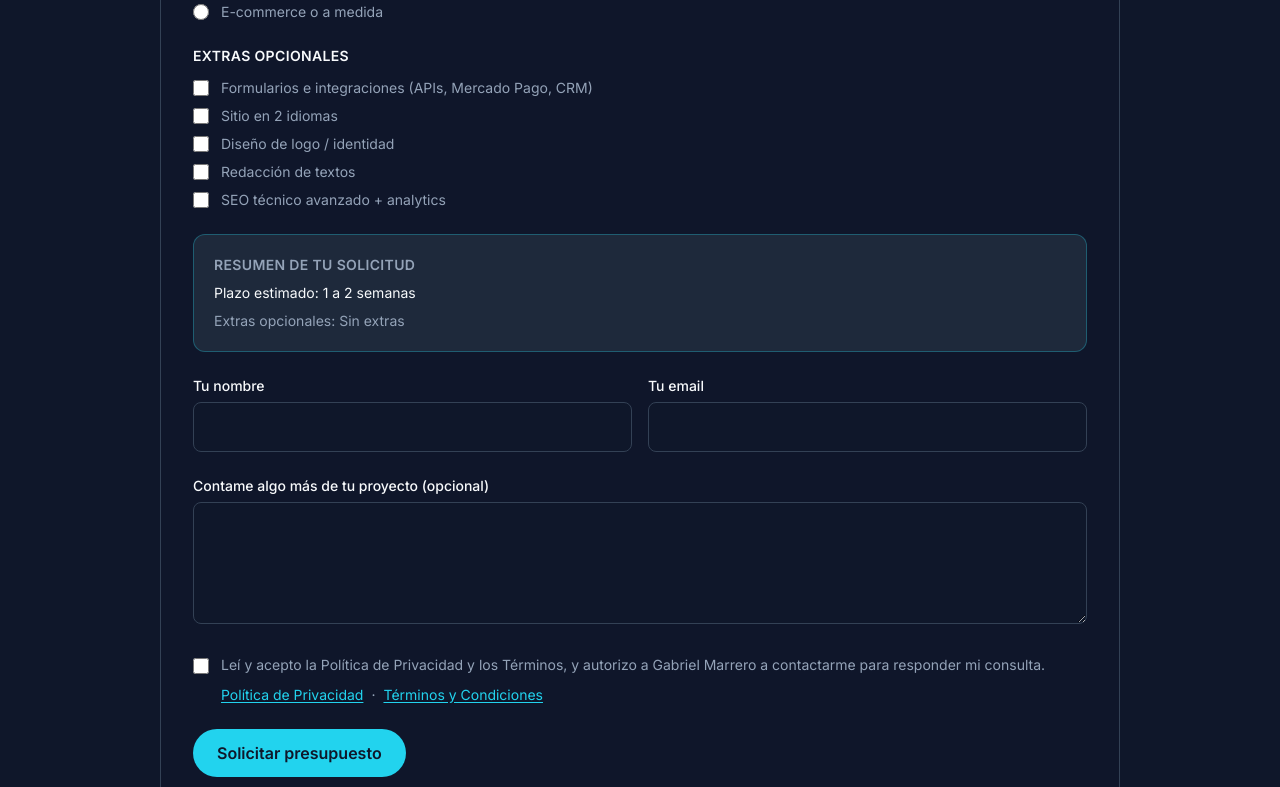
Estimator › rejects a WhatsApp number in the email field
(page scrolled)
In the field labelled "Tu nombre": (412, 427) [193,402,632,452], type "Ana Pérez"
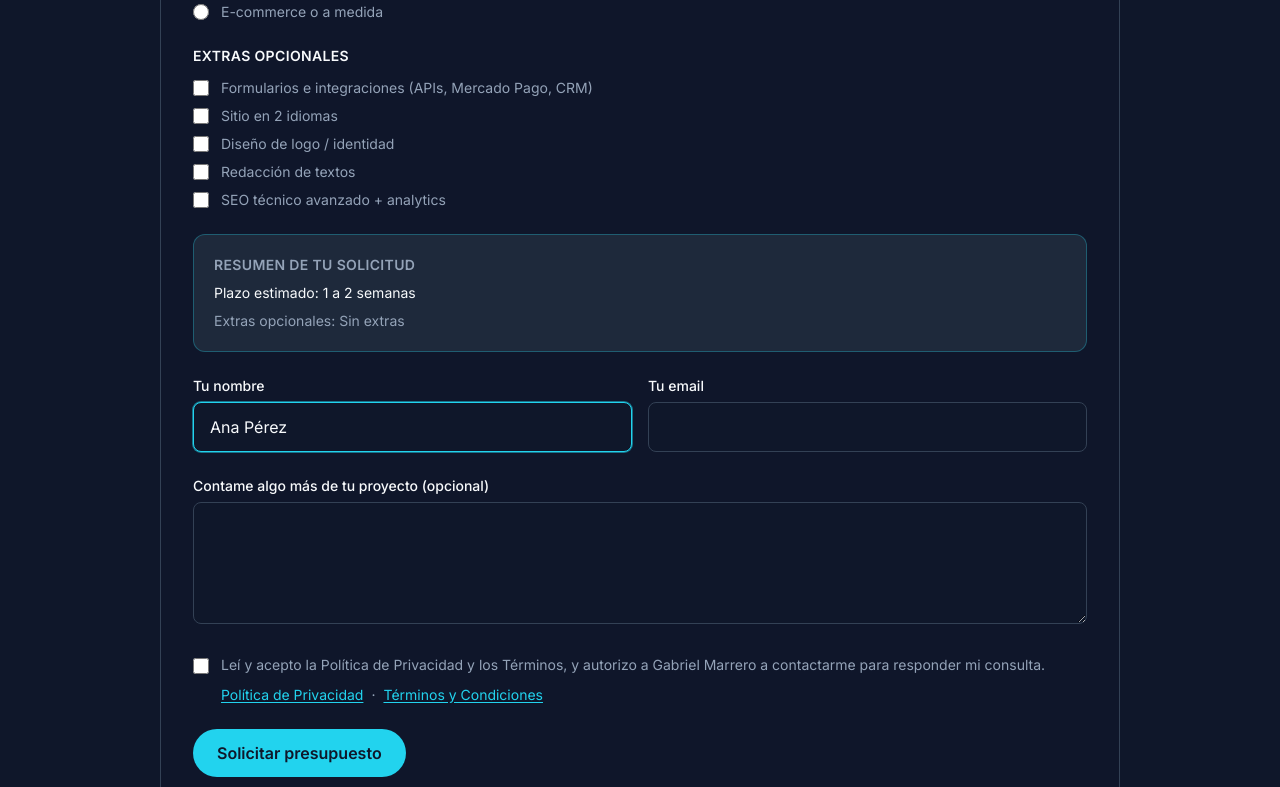
In the field labelled "Tu email": (868, 427) [648,402,1087,452], type "11 2345 6789"
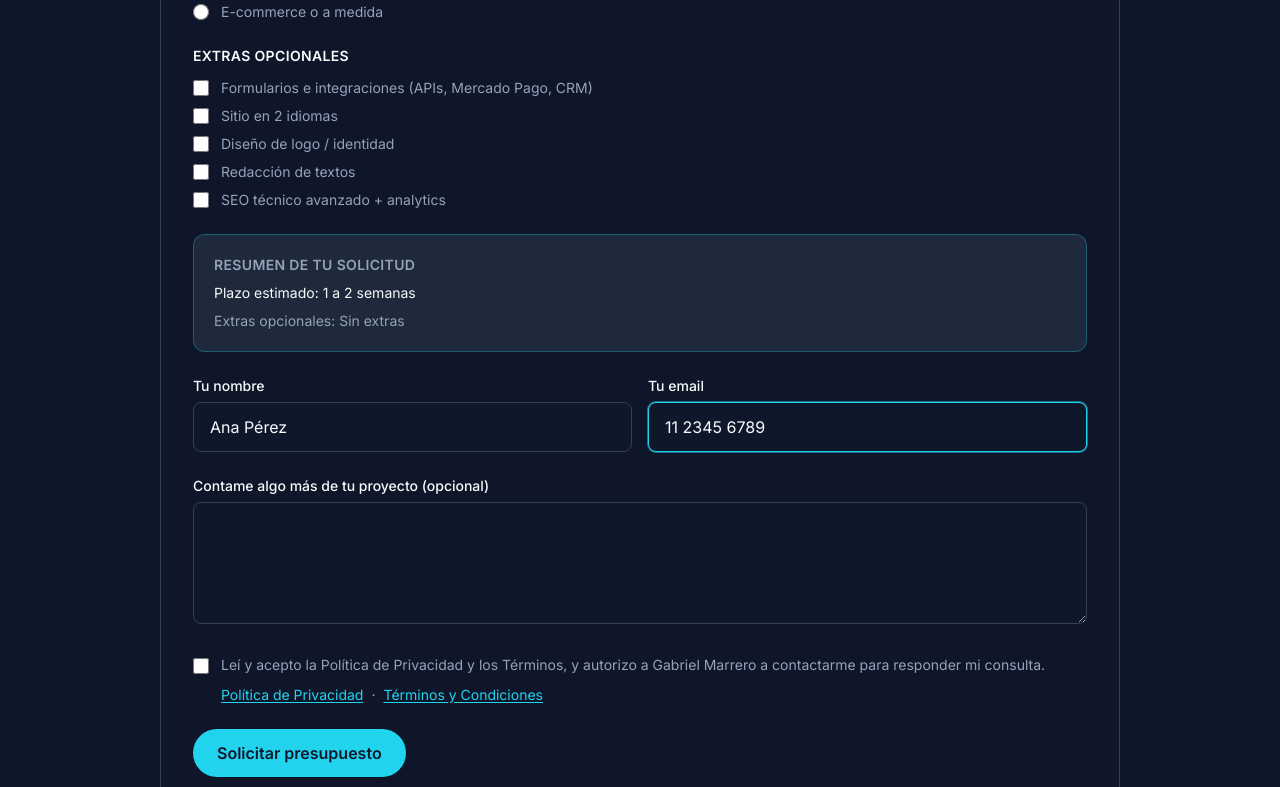
Click the checkbox labelled "Política de Privacidad": (201, 666) [193,658,209,674]
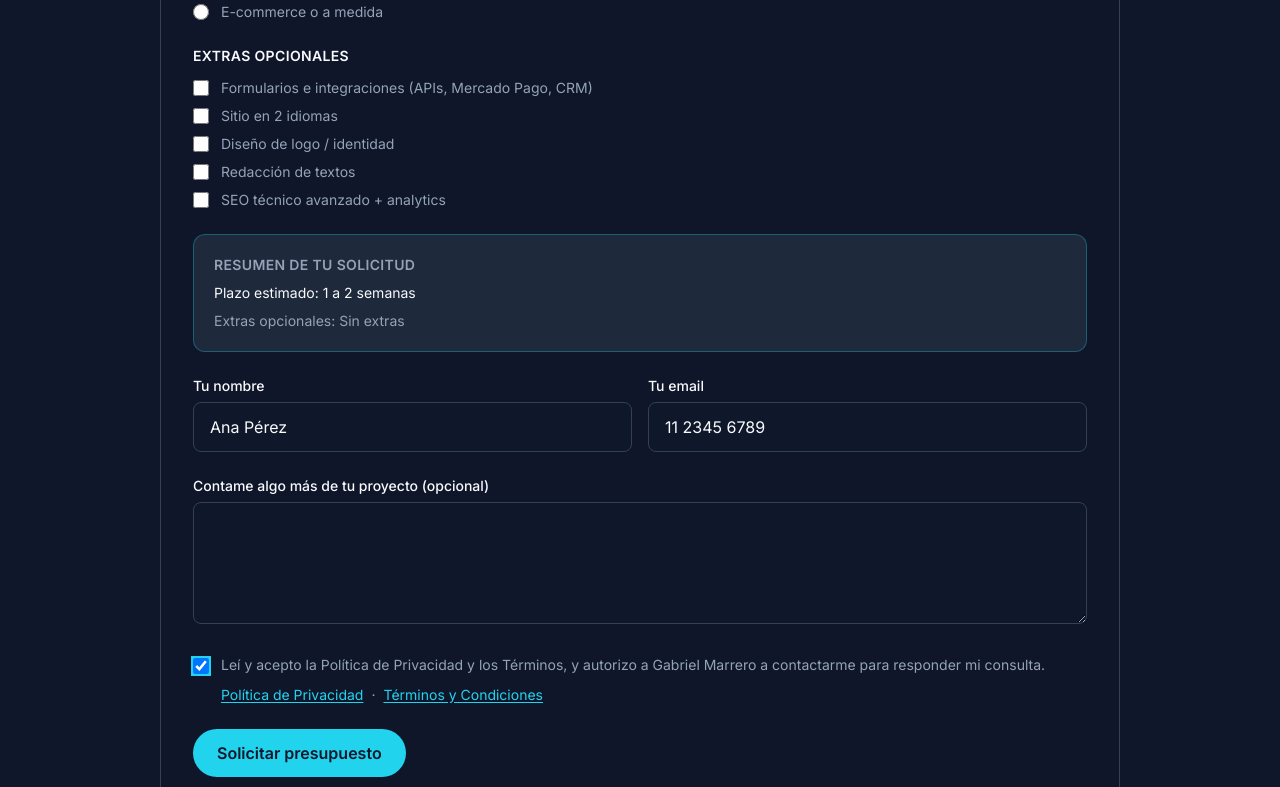
Click the button "Solicitar presupuesto": (299, 753) [193,729,406,777]
(page scrolled)
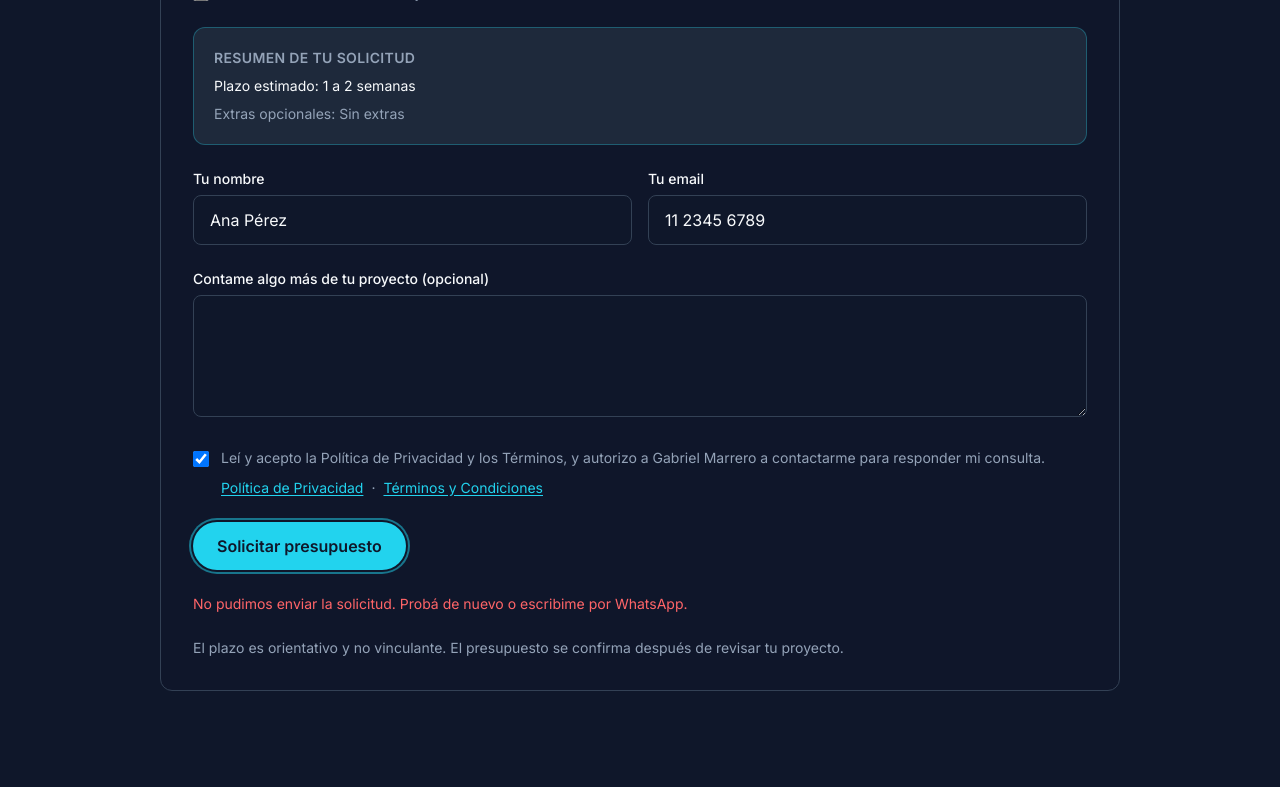
Now the message reads "No pudimos enviar la solicitud. Probá de nuevo o escribime por WhatsApp.", box [193,595,688,612]
